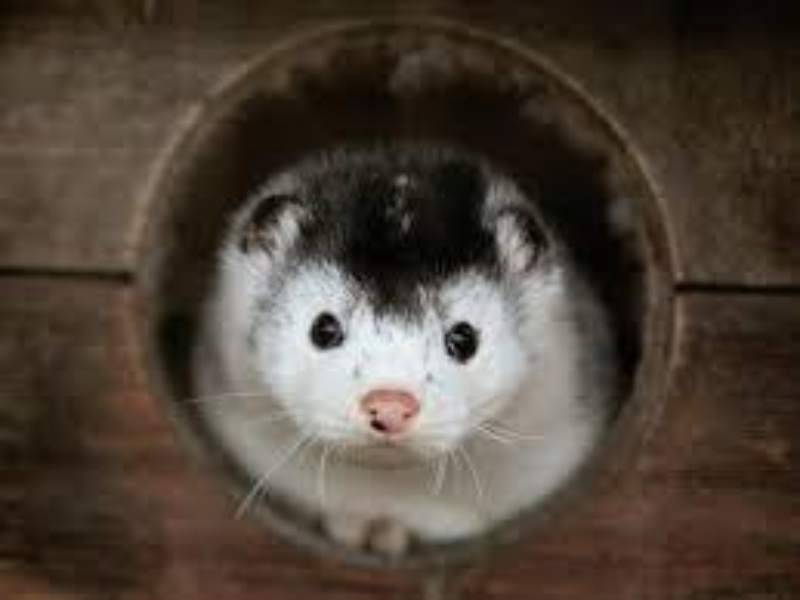minkish: (183, 141, 627, 560)
